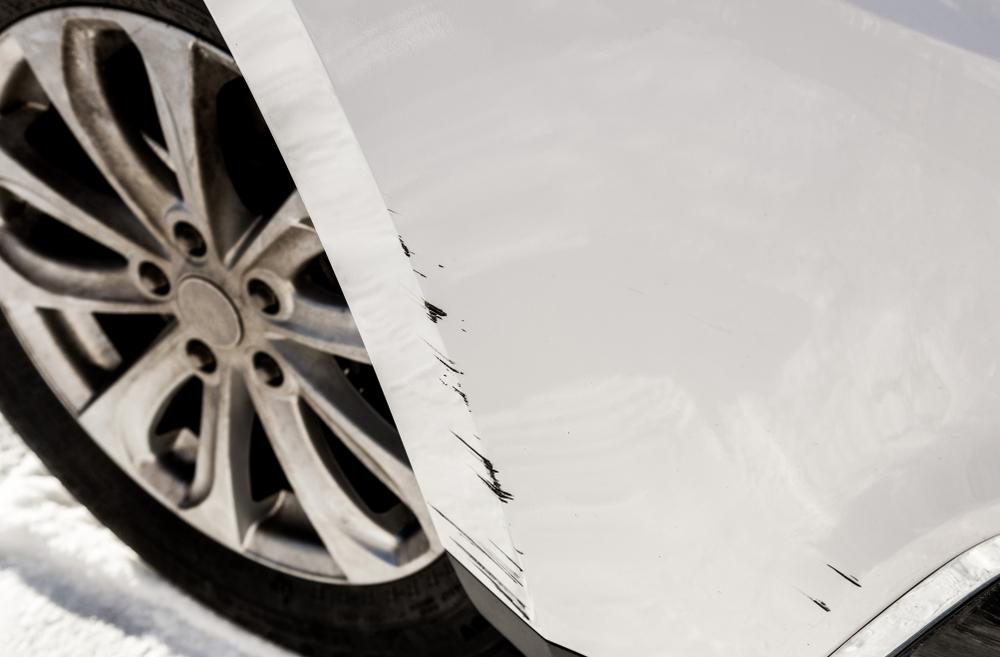scratch: (383, 212, 537, 635), (791, 555, 870, 619)
